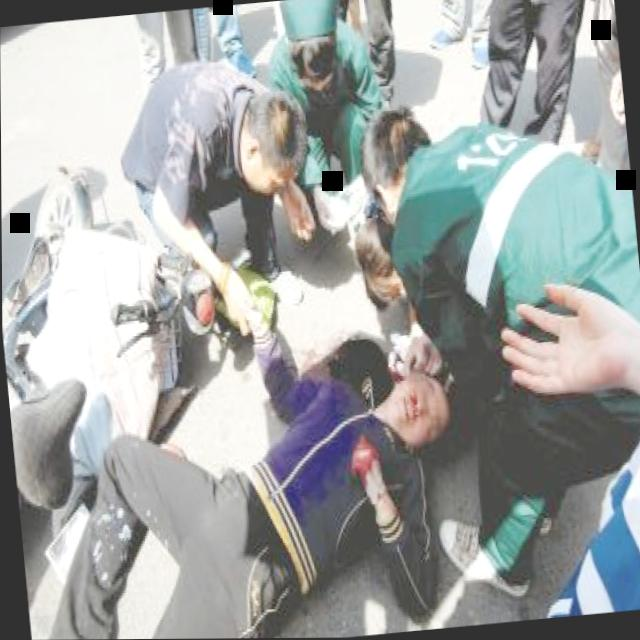Fall-Detected: (2, 283, 476, 640)
